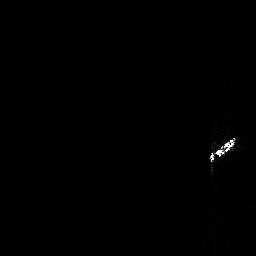ship: (204, 132, 241, 166)
